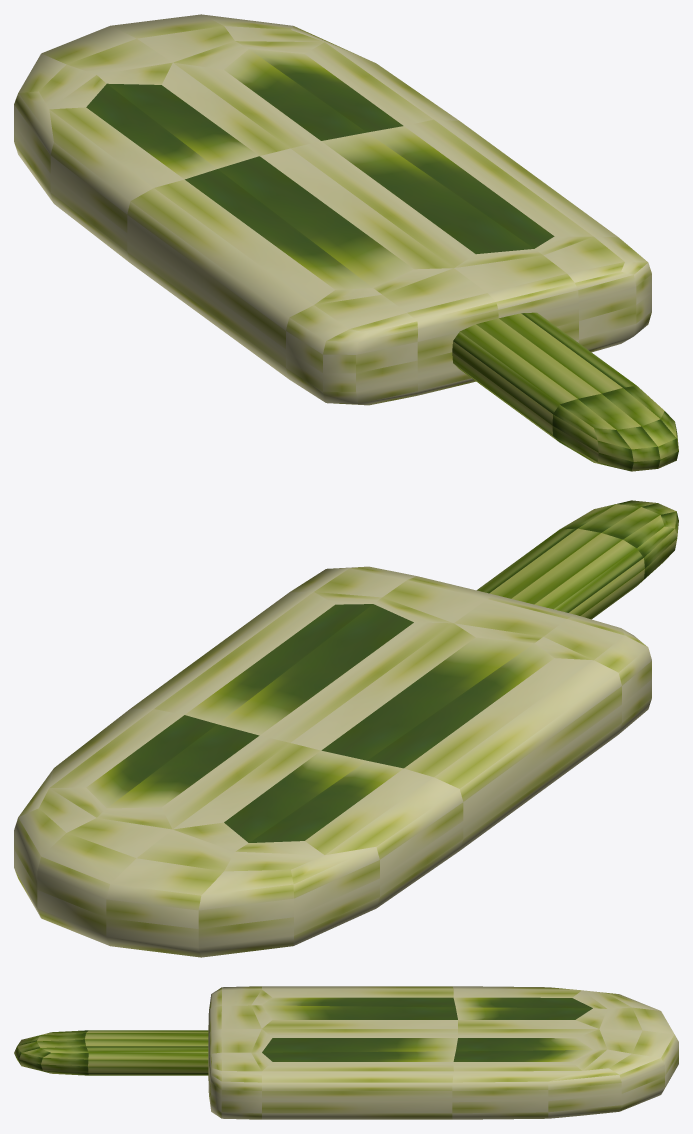
File: OBS0110278.fbx
3 renders of one model, top to bottom at view 1: azimuth 30°, elevation 25°; view 2: azimuth 150°, elevation 25°; view 3: azimuth 270°, elevation 25°, orthographic. The views are drawn at different scales.
Visible parts, largest first — view 1: smOBS0110278; view 2: smOBS0110278; view 3: smOBS0110278.
Boxes of the visible parts, x1,y1,x2,y2 form: smOBS0110278: (14,14,678,471); smOBS0110278: (14,500,678,957); smOBS0110278: (14,986,678,1119).
Bounding box in the file's own units: 105 × 23.96 × 299.
